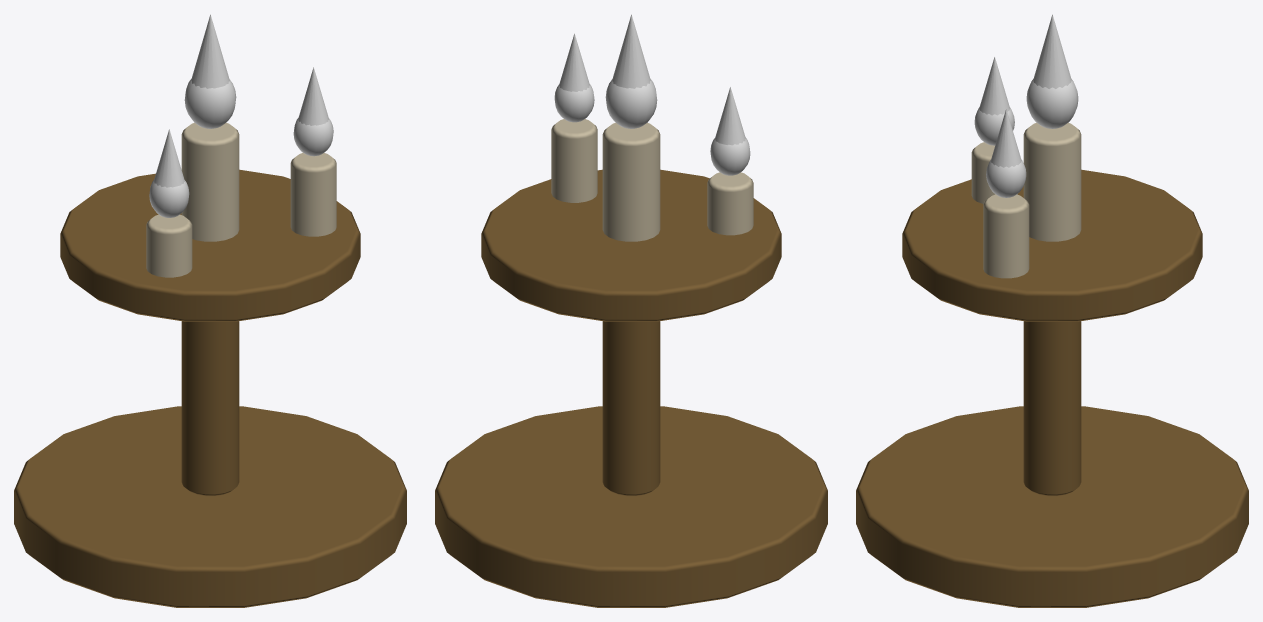
File: candle-cluster.6625ba81.glb
3 renders of one model, left to right at view 1: azimuth 30°, elevation 25°; view 2: azimuth 150°, elevation 25°; view 3: azimuth 270°, elevation 25°, orthographic.
Parts seen in each view (by area): view 1: body, flame; view 2: body, flame; view 3: body, flame.
Part boxes in pixels (x1,y1,x2,y2): body: [14, 122, 406, 607]; flame: [149, 14, 333, 217]; body: [435, 119, 827, 607]; flame: [554, 14, 750, 175]; body: [856, 122, 1248, 607]; flame: [974, 14, 1078, 197].
Bounding box in the file's own units: 0.3348 × 0.491 × 0.34.
